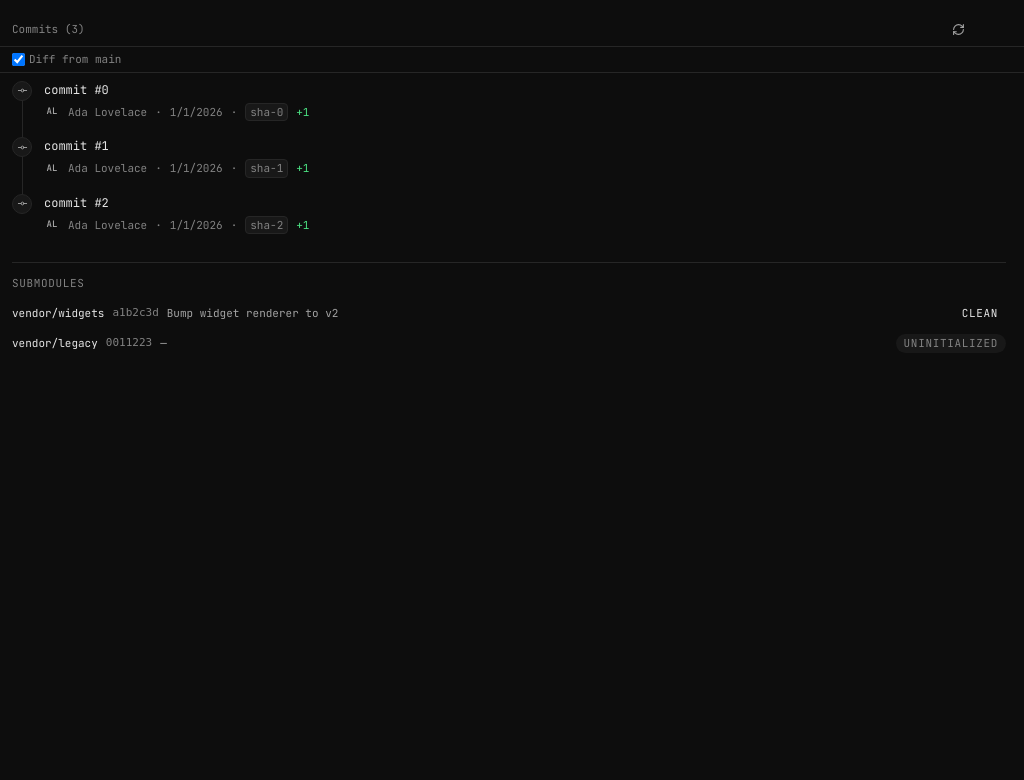
Test: VcsPanel › Requirement 1a-1e — diff-from-main toggle: ON by default shows own commits only, header count follows, OFF shows the full unfiltered list
This screenshot has width=1024, height=780.
Expected: the text "Commits (3)" is shown, [12,21,85,37]
Expected: the text "commit #0" is shown, [44,82,109,98]
Click the checkbox labelled "Diff from main": (18, 59) [12,53,25,66]
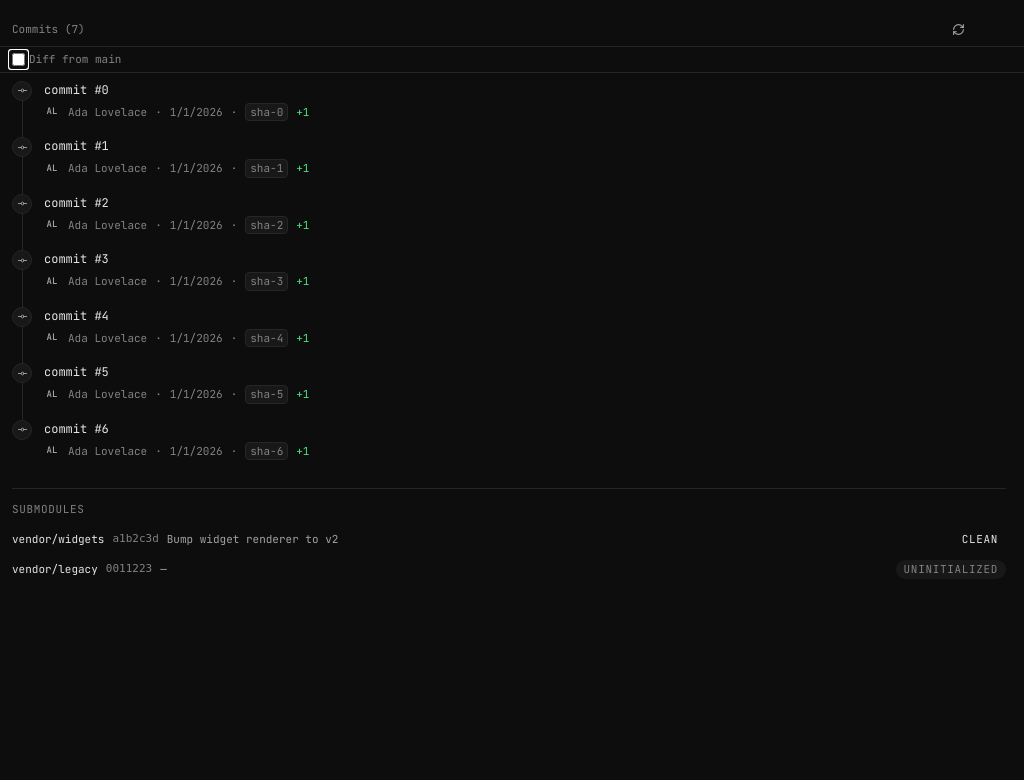
Expected: the checkbox labelled "Diff from main" is not checked, [12,53,25,66]
Expected: the text "commit #3" is shown, [44,251,109,267]
Expected: the text "commit #6" is shown, [44,420,109,436]
